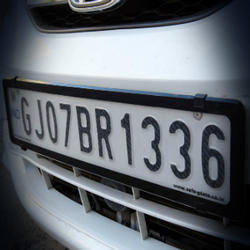numberplate: (2, 76, 242, 218)
